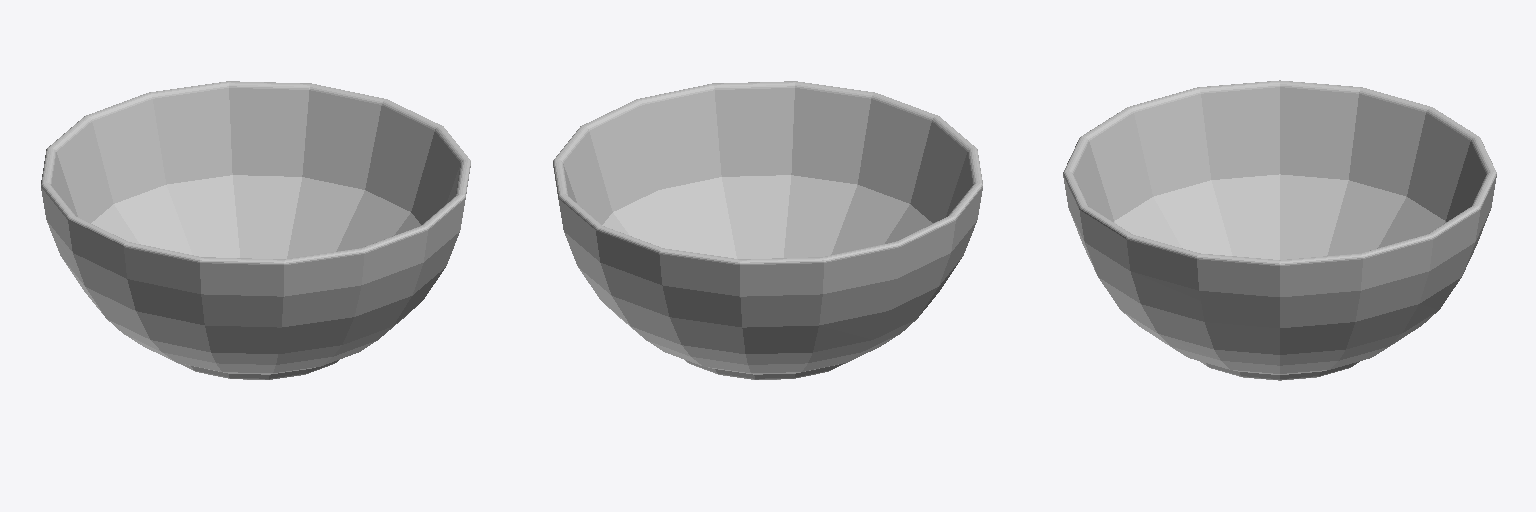
The model's file is small_soup_plate.obj.
3 views of the same model, side by side, from view 1: azimuth 30°, elevation 25°; view 2: azimuth 150°, elevation 25°; view 3: azimuth 270°, elevation 25° (orthographic).
Parts seen in each view (by area): view 1: small_soup_plate; view 2: small_soup_plate; view 3: small_soup_plate.
Boxes of the visible parts, x1=… form: small_soup_plate: x1=41, y1=81, x2=470, y2=379; small_soup_plate: x1=553, y1=81, x2=982, y2=379; small_soup_plate: x1=1063, y1=80, x2=1496, y2=380.
Bounding box in the file's own units: 0.1332 × 0.0574 × 0.1331.